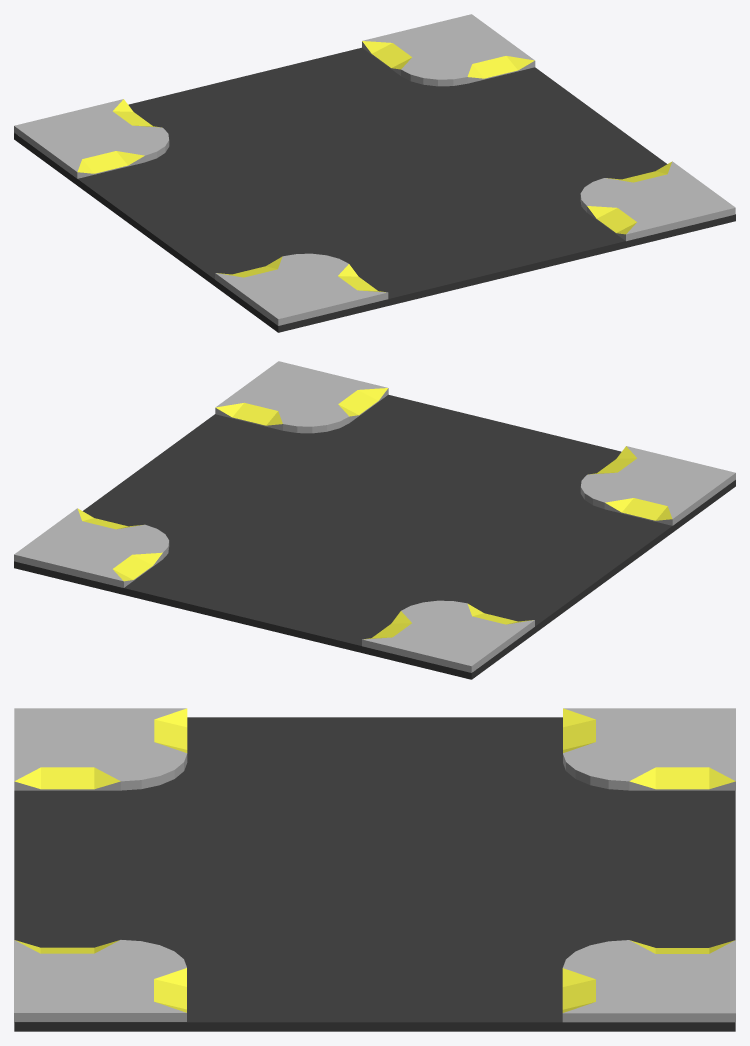
File: intersection.glb
3 renders of one model, top to bottom at view 1: azimuth 30°, elevation 25°; view 2: azimuth 150°, elevation 25°; view 3: azimuth 270°, elevation 25°, orthographic. The views are drawn at different scales.
Parts seen in each view (by area): view 1: Intersection.001; view 2: Intersection.001; view 3: Intersection.001.
Boxes of the visible parts, x1,y1,x2,y2 form: Intersection.001: (14, 14, 735, 332); Intersection.001: (14, 361, 735, 679); Intersection.001: (14, 708, 735, 1031).
Size of the model in its own units: 28.07 by 0.8 by 28.09.
1 material, 1 textured.
